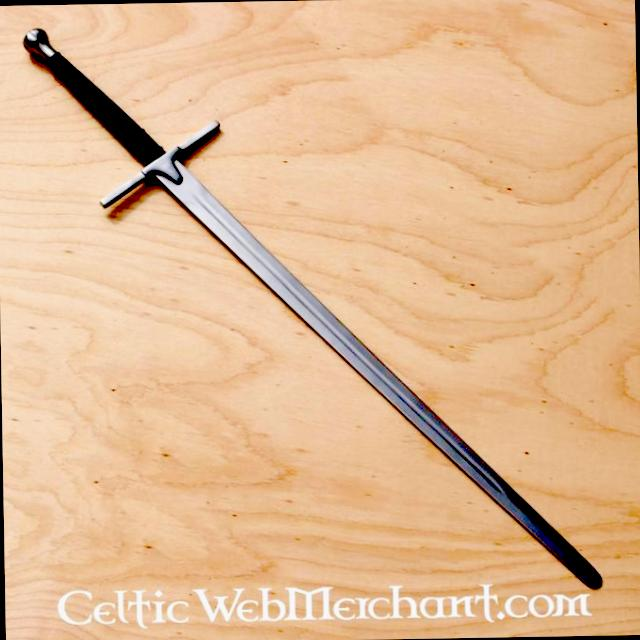long sword: (18, 11, 610, 607)
